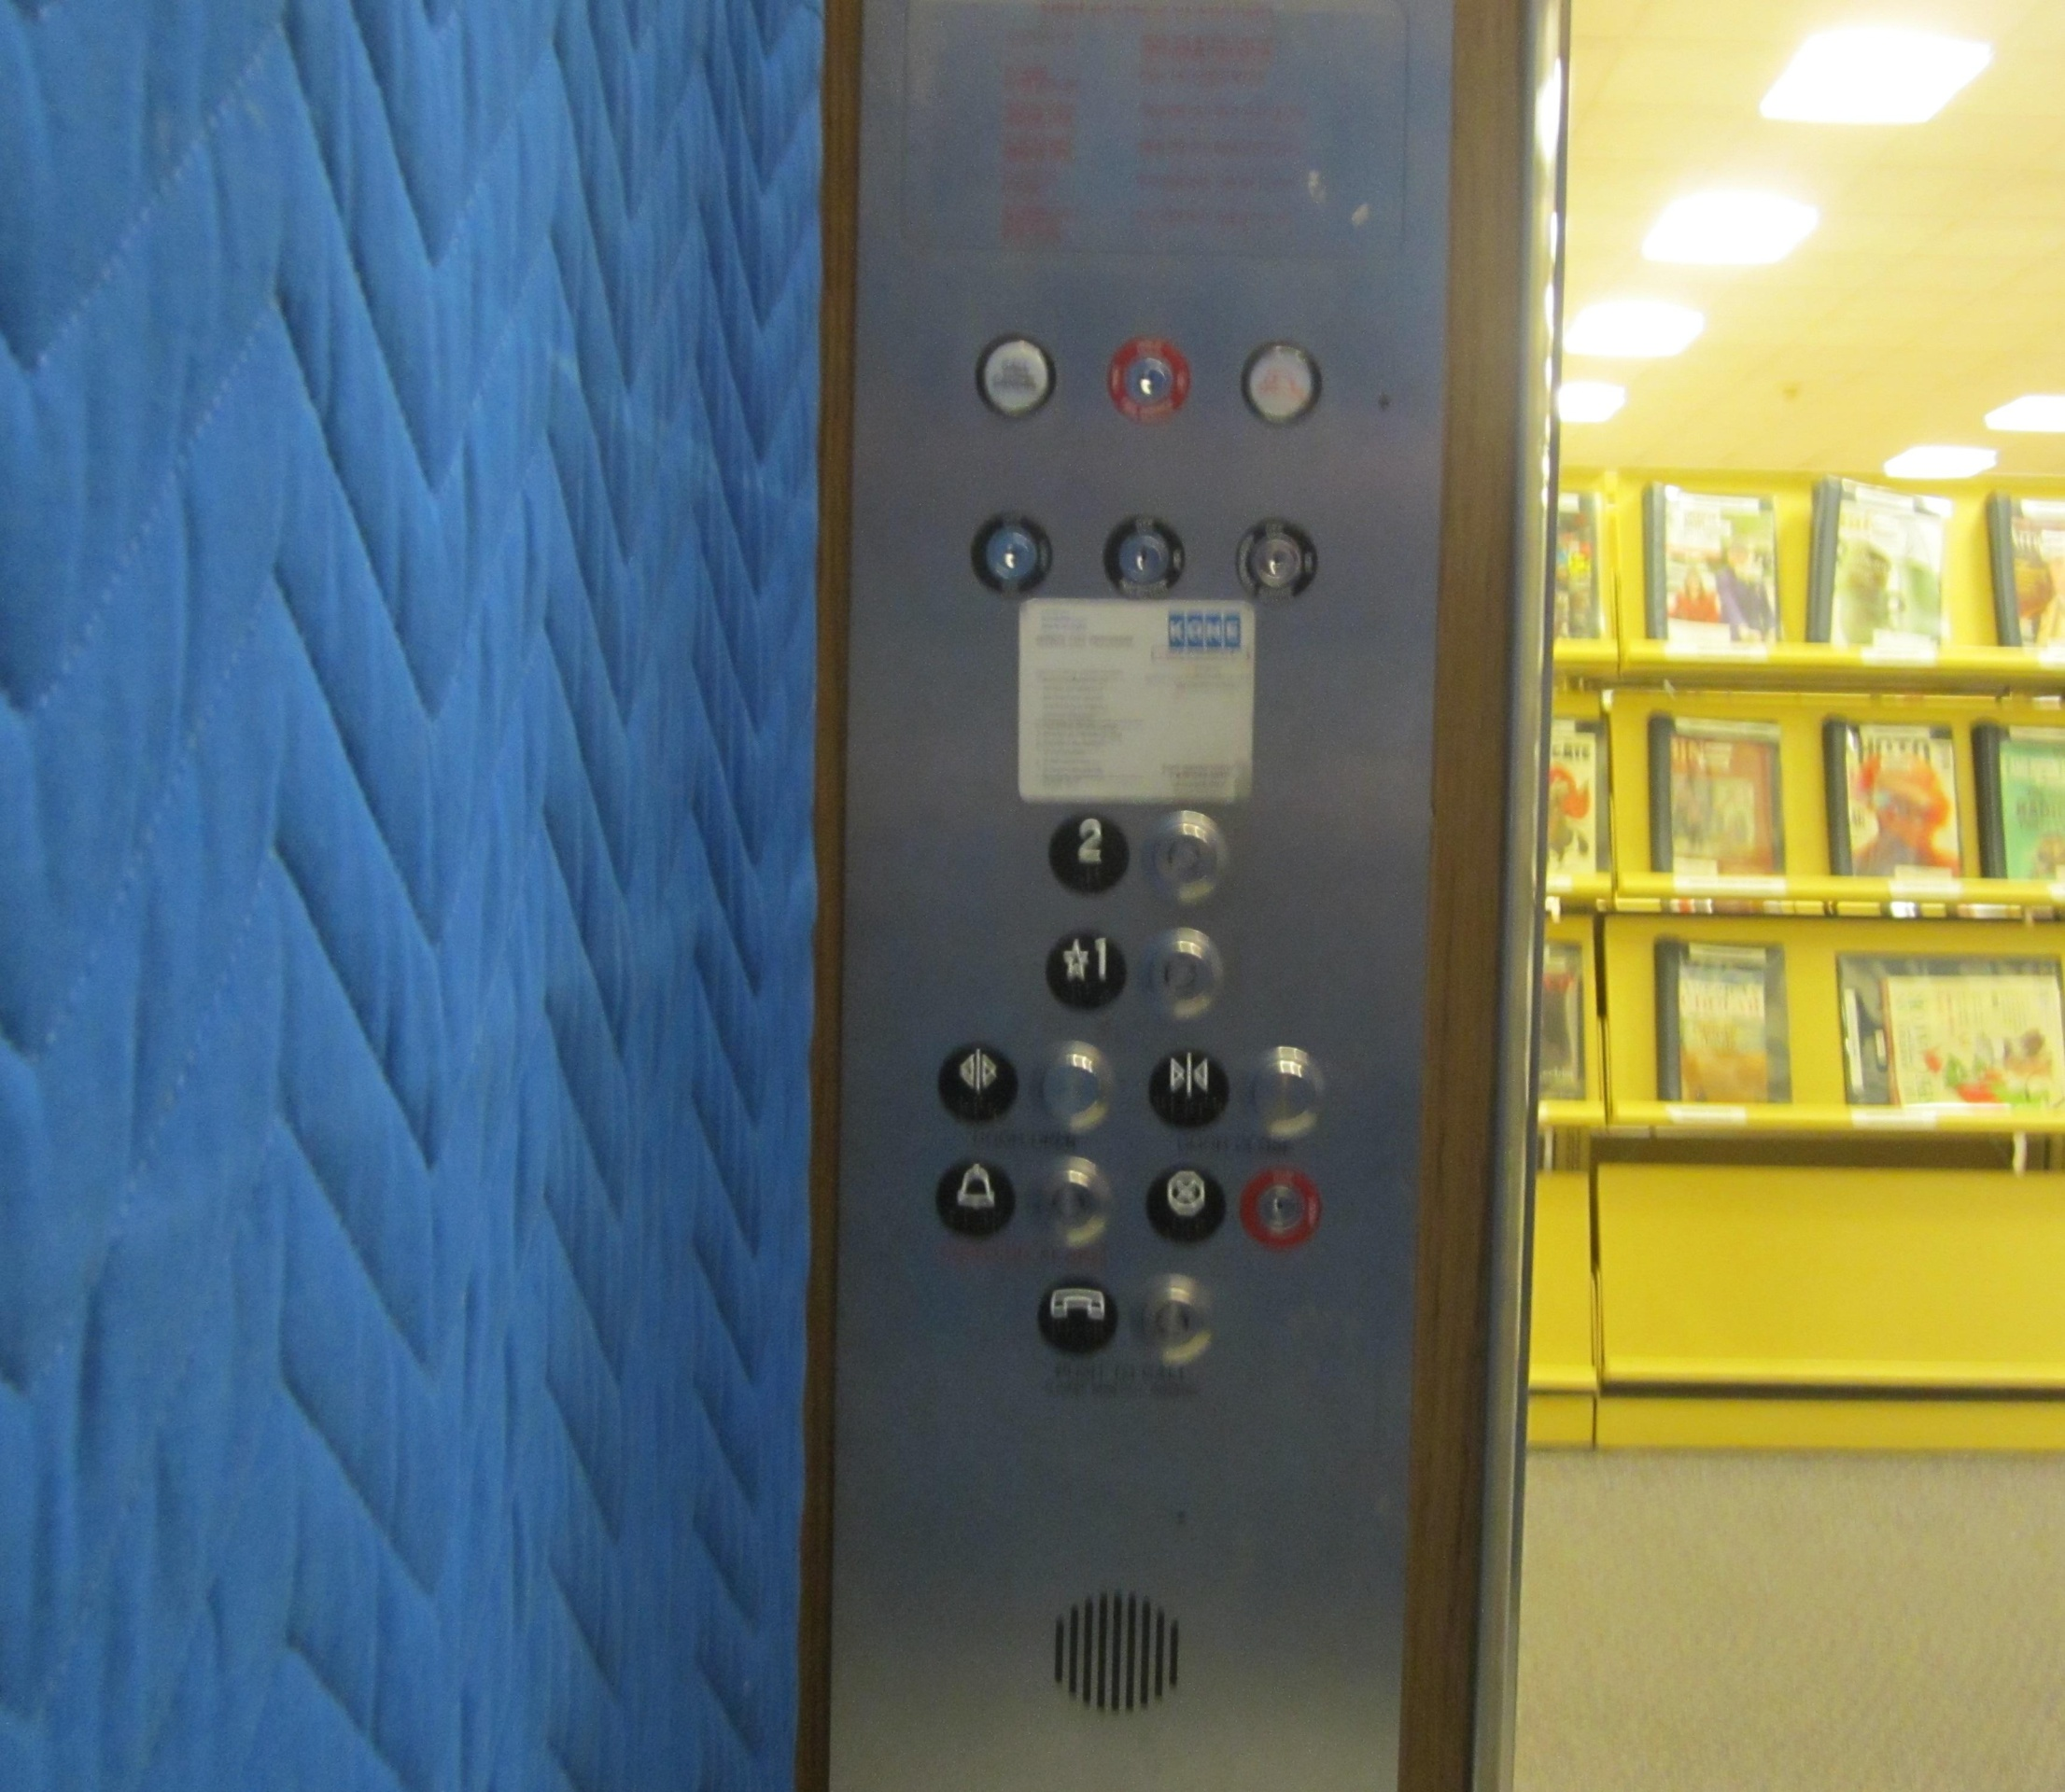2: (1043, 807, 1133, 899)
alarm: (932, 1150, 1017, 1237)
call: (1032, 1269, 1119, 1357)
close: (1143, 1043, 1229, 1130)
empty: (1238, 1037, 1333, 1137), (1024, 1036, 1117, 1136), (1024, 1148, 1117, 1246), (1127, 1264, 1220, 1362), (1138, 927, 1227, 1018), (1143, 809, 1231, 900)
keyhole: (1103, 330, 1191, 426), (1229, 513, 1319, 604), (1234, 1160, 1324, 1251), (968, 505, 1055, 597), (1099, 509, 1187, 600)
open: (932, 1036, 1018, 1123)
s1: (1040, 921, 1129, 1013)
stop: (1143, 1158, 1229, 1246)
text: (975, 328, 1059, 425)
unknown: (1234, 330, 1322, 426)
